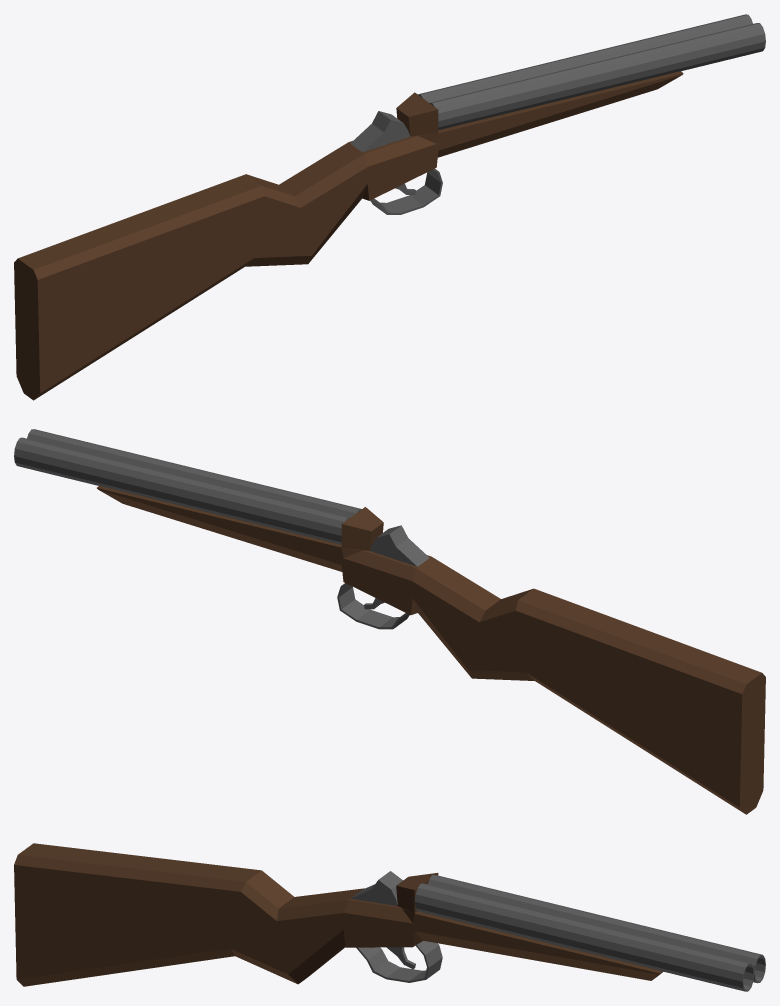
The model's file is Shotgun (1).dae.
3 views of the same model, one above another, from view 1: azimuth 30°, elevation 25°; view 2: azimuth 150°, elevation 25°; view 3: azimuth 330°, elevation 25° (orthographic).
Visible parts, largest first — view 1: Cube; view 2: Cube; view 3: Cube.
Part boxes in pixels (left/top/right/bottom): Cube: left=14, top=14, right=765, bottom=400; Cube: left=14, top=429, right=765, bottom=814; Cube: left=14, top=843, right=765, bottom=991.
Bounding box in the file's own units: 2.42 × 0.1363 × 0.6376.
